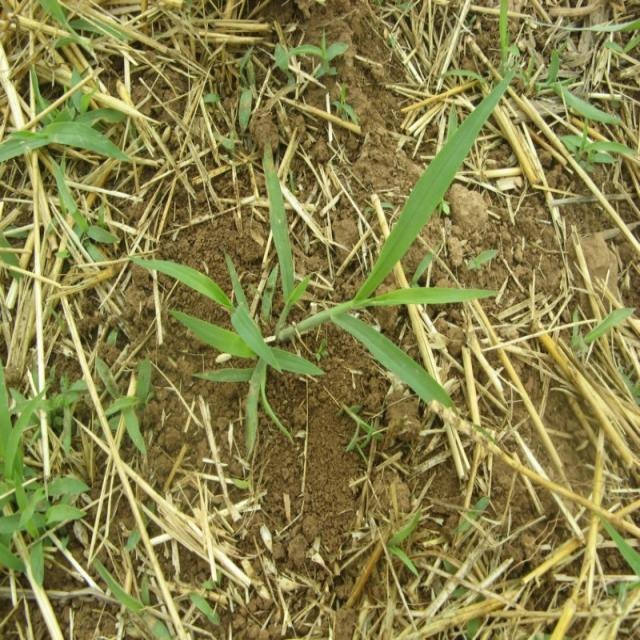bg: (130, 65, 524, 452)
